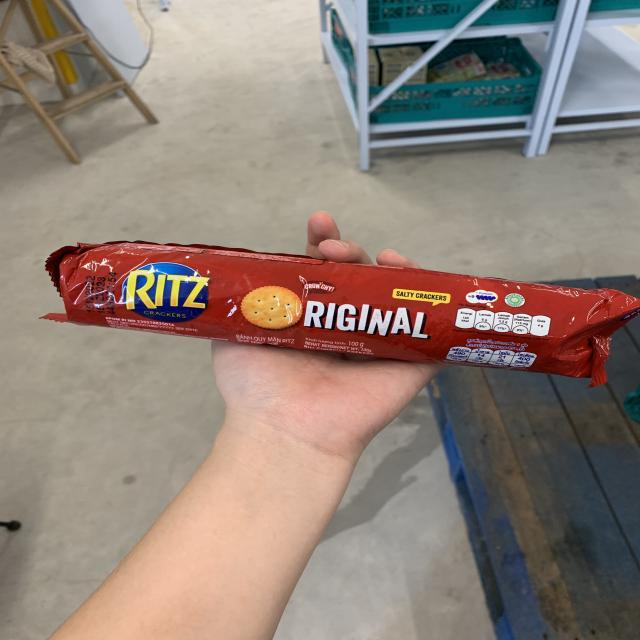object_name: (36, 245, 618, 376)
